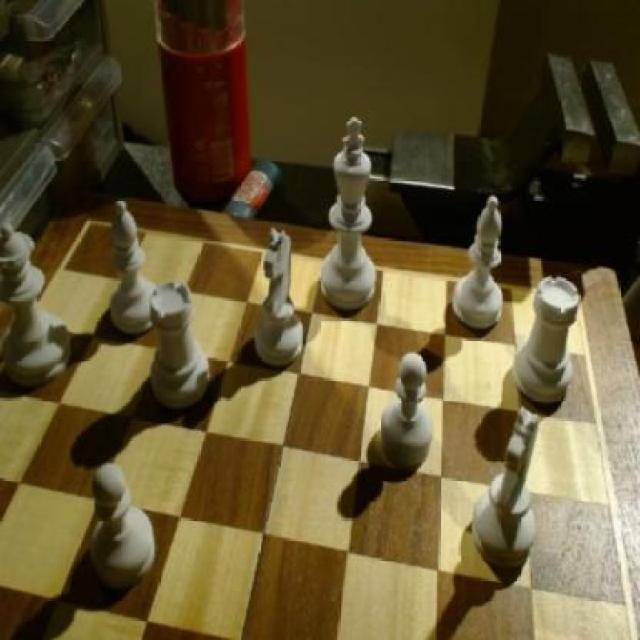black-rook: (99, 194, 163, 337), (454, 191, 509, 336)
white-bishop: (323, 110, 383, 314)
white-king: (470, 397, 544, 577), (249, 220, 311, 371)
white-knight: (89, 463, 159, 598), (371, 342, 441, 470)
white-pawn: (0, 219, 74, 386)
white-queen: (151, 278, 215, 419), (518, 271, 580, 412)
